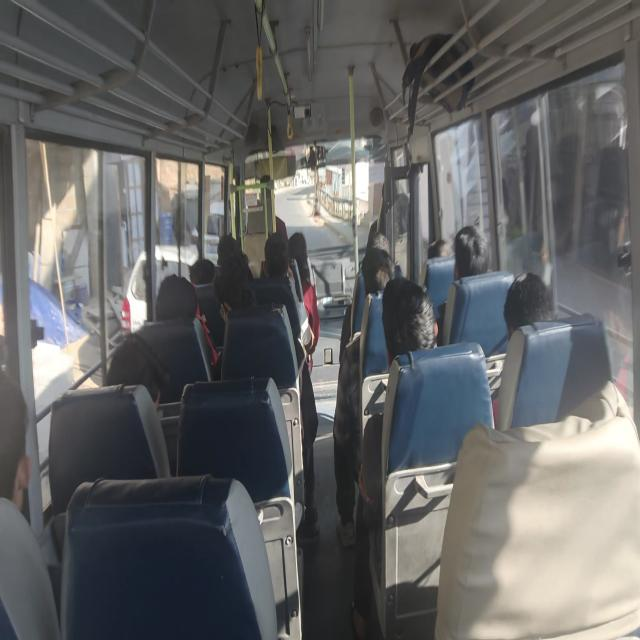person: (434, 380, 639, 638), (351, 276, 438, 637), (212, 250, 319, 536), (332, 244, 394, 547), (0, 373, 60, 638), (490, 270, 553, 427), (262, 231, 315, 371), (339, 245, 394, 364), (155, 273, 219, 371), (439, 224, 489, 345), (104, 330, 170, 416), (382, 276, 438, 366), (288, 231, 320, 368), (0, 374, 31, 512), (503, 270, 553, 341), (212, 252, 258, 322), (155, 273, 198, 321), (453, 224, 489, 281), (217, 233, 240, 266), (189, 258, 215, 286)
